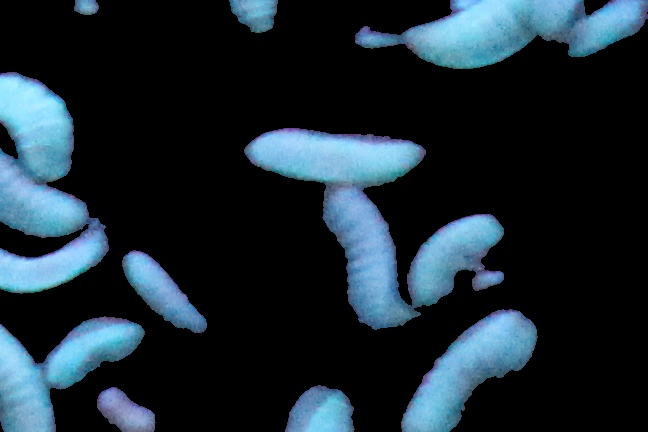larvae: (417, 310, 531, 428), (240, 126, 421, 190), (338, 199, 406, 326), (402, 8, 538, 69), (422, 215, 498, 303), (46, 319, 142, 387), (1, 226, 99, 291), (122, 254, 213, 322), (1, 324, 55, 432), (1, 77, 76, 154), (1, 156, 80, 228), (564, 1, 647, 61)
